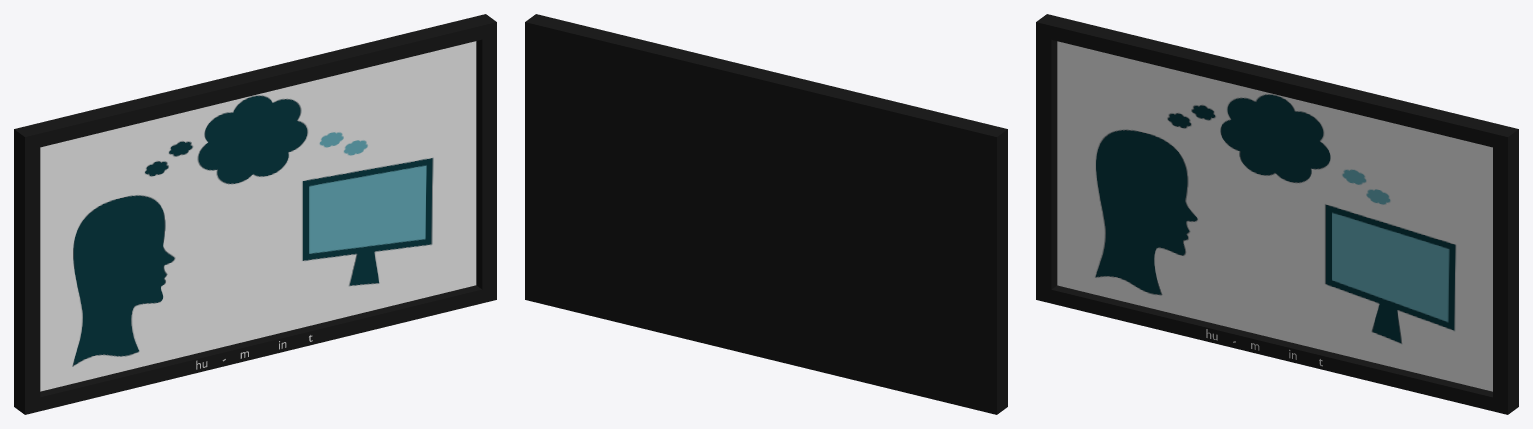
Rendered from hciPoster.gltf.
3 renders of one model, left to right at view 1: azimuth 30°, elevation 25°; view 2: azimuth 150°, elevation 25°; view 3: azimuth 330°, elevation 25°, orthographic.
Parts seen in each view (by area): view 1: Cube.007; view 2: Cube.007; view 3: Cube.007.
Boxes of the visible parts, left/top/right/bottom form: Cube.007: left=14, top=14, right=496, bottom=414; Cube.007: left=525, top=14, right=1007, bottom=414; Cube.007: left=1036, top=14, right=1518, bottom=414.
Size of the model in its own units: 2.47 by 1.39 by 0.103.
2 materials, 1 textured.
